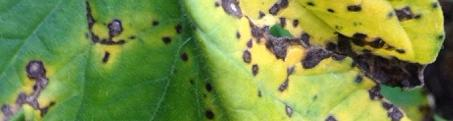Tomato Septoria leaf spot: (0, 0, 445, 121)
